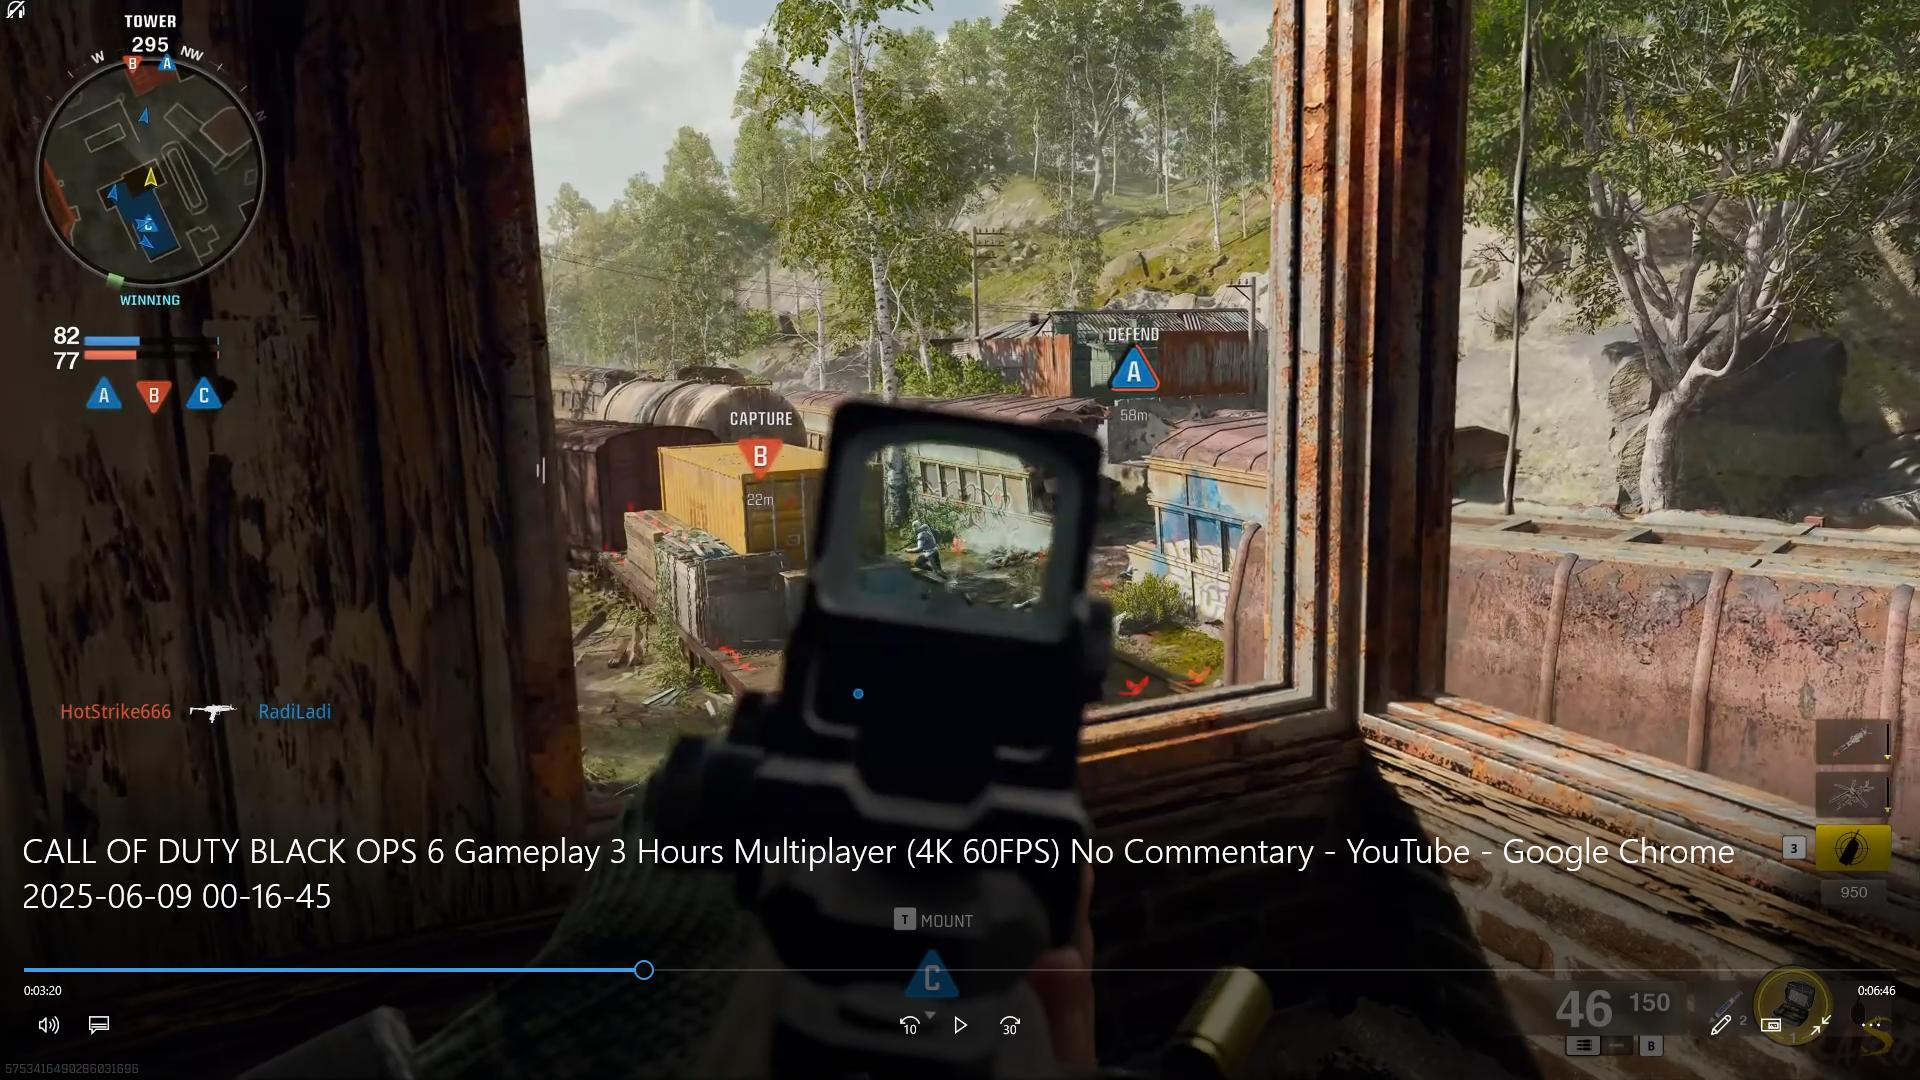Enemy: (899, 516, 947, 584)
